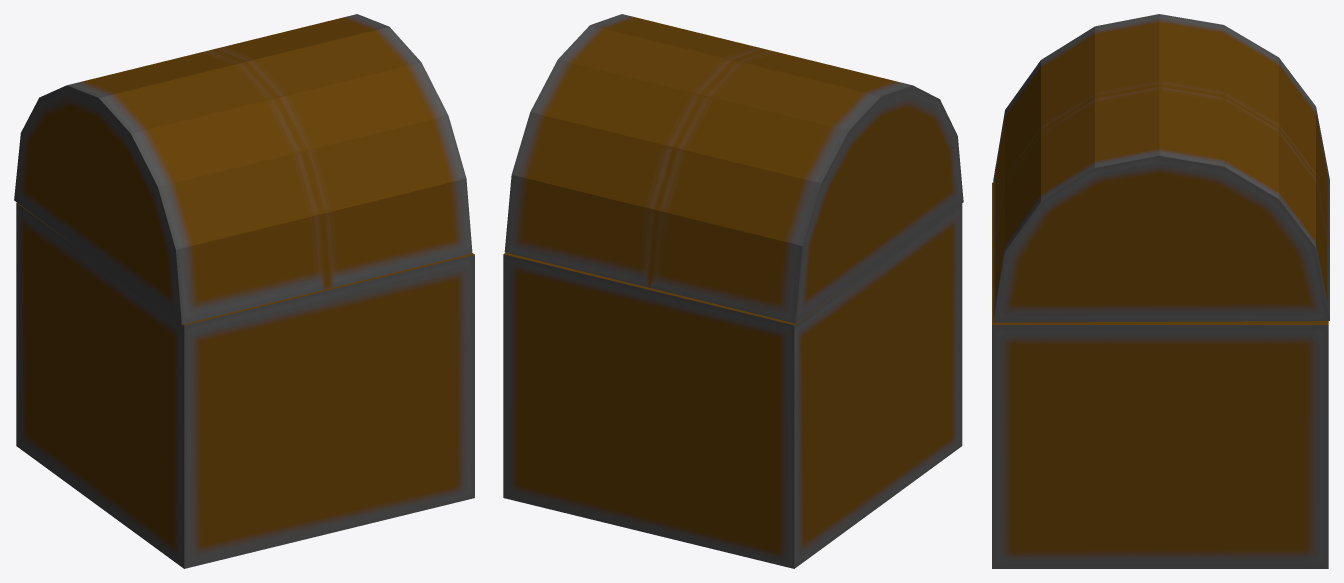
File: JBayer_Chest.fbx
3 views of the same model, side by side, from view 1: azimuth 30°, elevation 25°; view 2: azimuth 150°, elevation 25°; view 3: azimuth 270°, elevation 25° (orthographic).
Parts seen in each view (by area): view 1: Bottom, Top; view 2: Bottom, Top; view 3: Top, Bottom.
Part boxes in pixels (x1,y1,x2,y2): Bottom: (16, 202, 474, 568); Top: (14, 14, 472, 324); Bottom: (503, 203, 962, 568); Top: (504, 14, 963, 323); Top: (993, 14, 1329, 322); Bottom: (992, 182, 1328, 568).
Size of the model in its own units: 60.43 by 60.19 by 81.05.
1 material, 1 textured.
